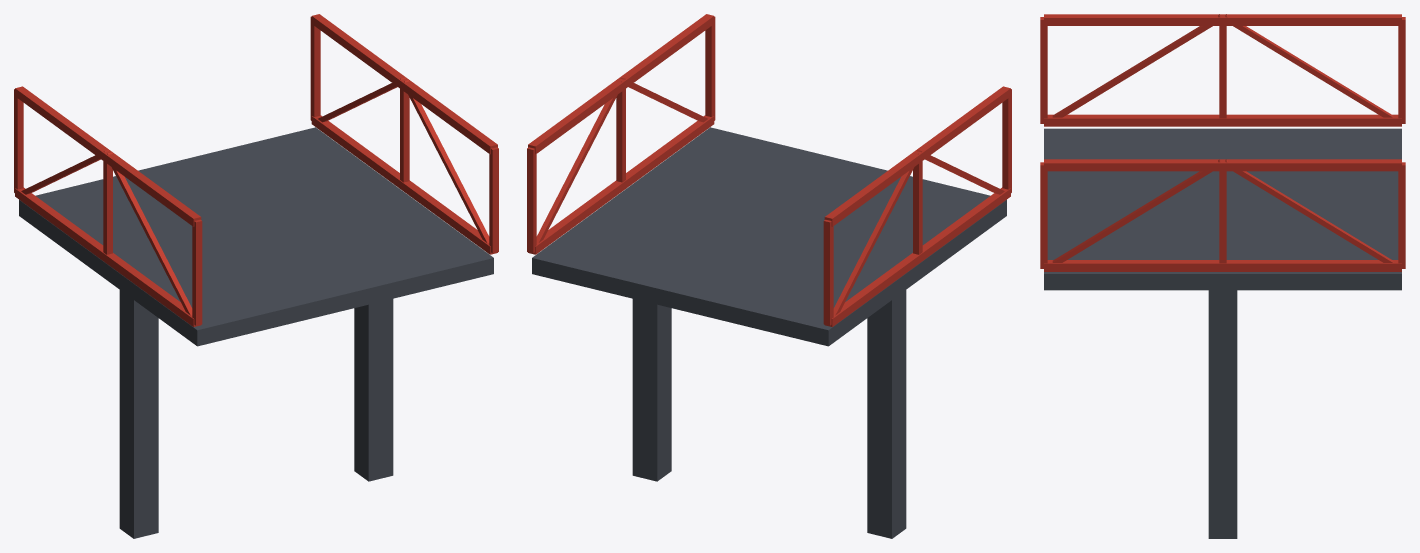
Rendered from bridge.glb.
The picture shows the model from 3 angles, left to right: view 1: azimuth 30°, elevation 25°; view 2: azimuth 150°, elevation 25°; view 3: azimuth 270°, elevation 25°; orthographic projection.
Visible parts, largest first — view 1: bridge; view 2: bridge; view 3: bridge.
Boxes of the visible parts, x1,y1,x2,y2 form: bridge: [14, 14, 498, 538]; bridge: [527, 14, 1011, 538]; bridge: [1040, 14, 1405, 538].
Bounding box in the file's own units: 9.85 × 11.96 × 10.2.
